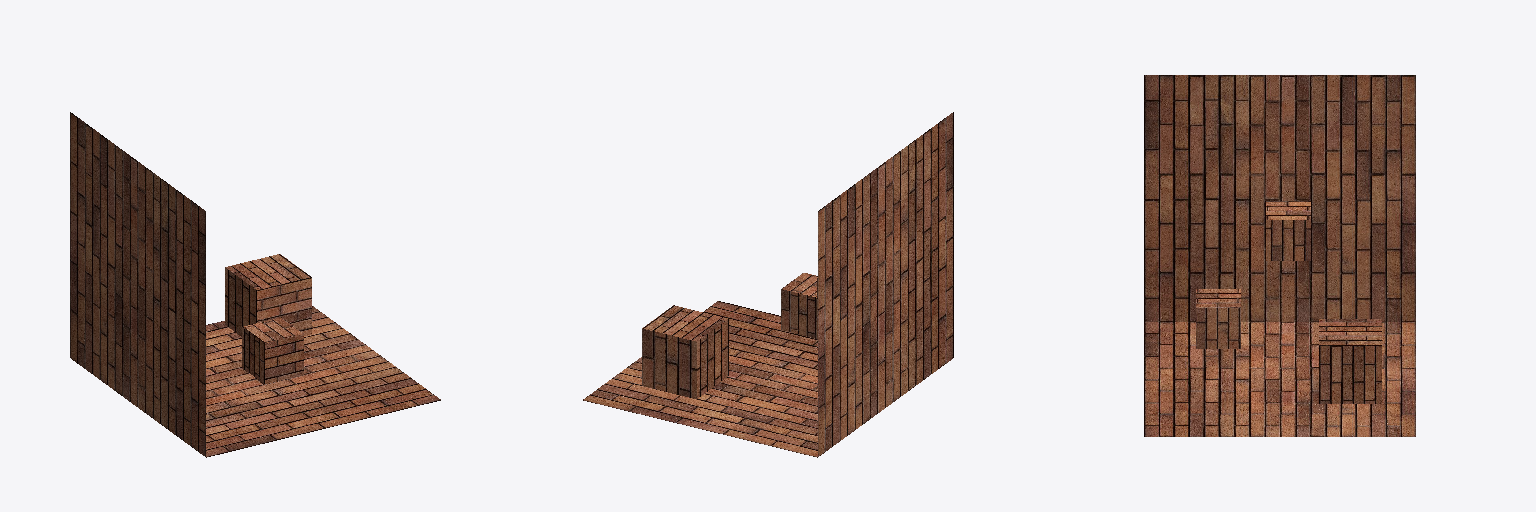
3 renders of one model, left to right at view 1: azimuth 30°, elevation 25°; view 2: azimuth 150°, elevation 25°; view 3: azimuth 270°, elevation 25°, orthographic.
Parts seen in each view (by area): view 1: Plane.001; view 2: Plane.001; view 3: Plane.001.
Boxes of the visible parts, x1,y1,x2,y2 form: Plane.001: [70, 112, 440, 457]; Plane.001: [583, 112, 953, 457]; Plane.001: [1144, 75, 1415, 436].
Size of the model in its own units: 6 by 6 by 6.
1 materials, 1 textured.